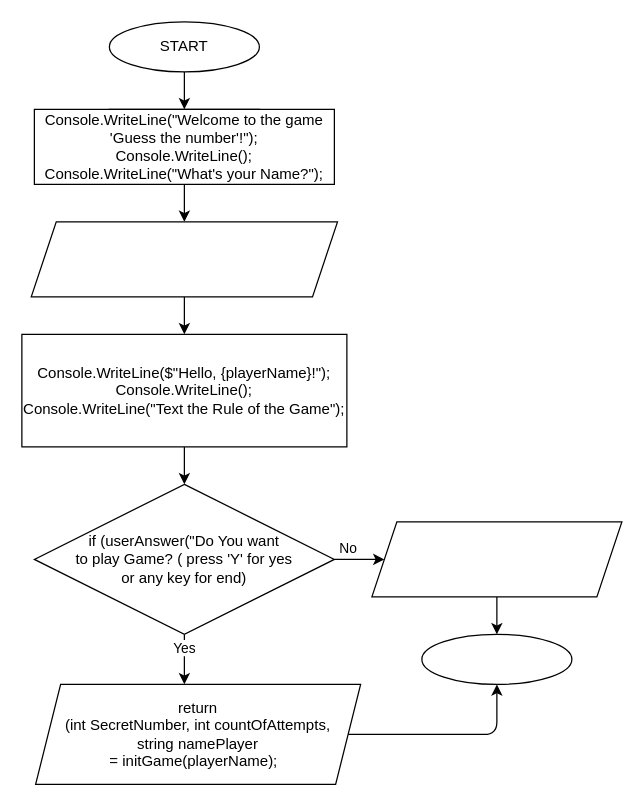
This 644x806 diagram has some shape labels left out. The centre of each missing label's shape, as x and y in pixels:
END: point (496, 658)
return (s ecretNumber = -99, countOfAttempts = -99, namePlayer);: point (496, 559)
string playerName = Console.Read();: point (184, 259)
